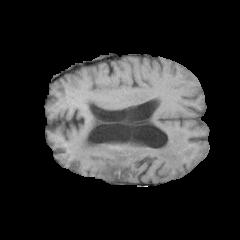glioma: (67, 100, 184, 180)
